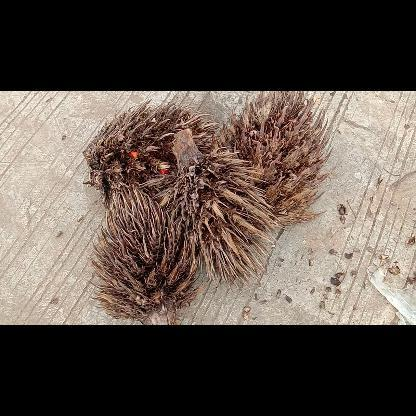Janjang kosong: (156, 127, 283, 288), (217, 90, 333, 226), (90, 188, 202, 324), (82, 100, 218, 194)
